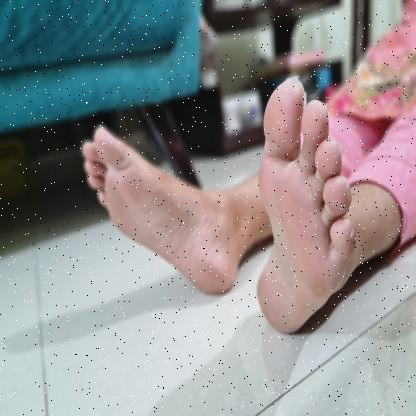leg: (248, 67, 403, 344), (75, 112, 258, 304)
